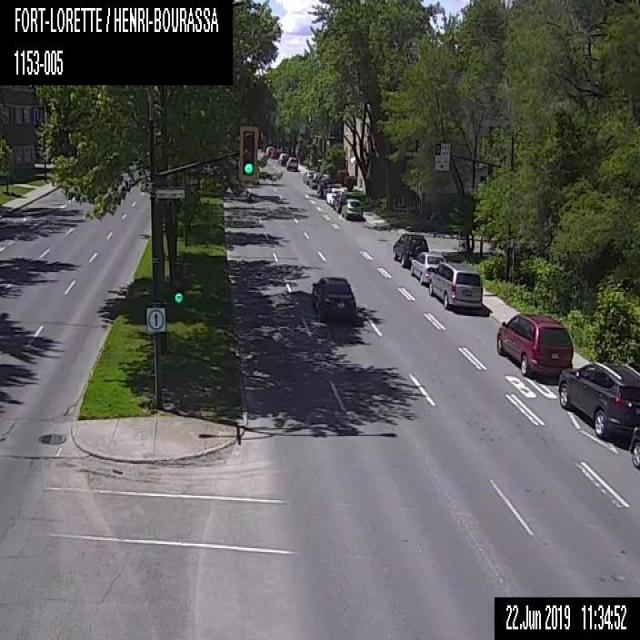vehicle: (558, 358, 639, 443), (498, 312, 574, 383), (429, 260, 484, 312), (310, 273, 359, 320), (391, 230, 428, 264), (411, 248, 445, 283), (341, 198, 364, 220), (629, 425, 639, 468), (332, 192, 354, 210), (316, 178, 335, 198), (326, 185, 343, 203), (308, 171, 322, 187), (286, 156, 299, 171), (277, 152, 291, 165), (302, 169, 314, 184), (269, 146, 279, 157)
